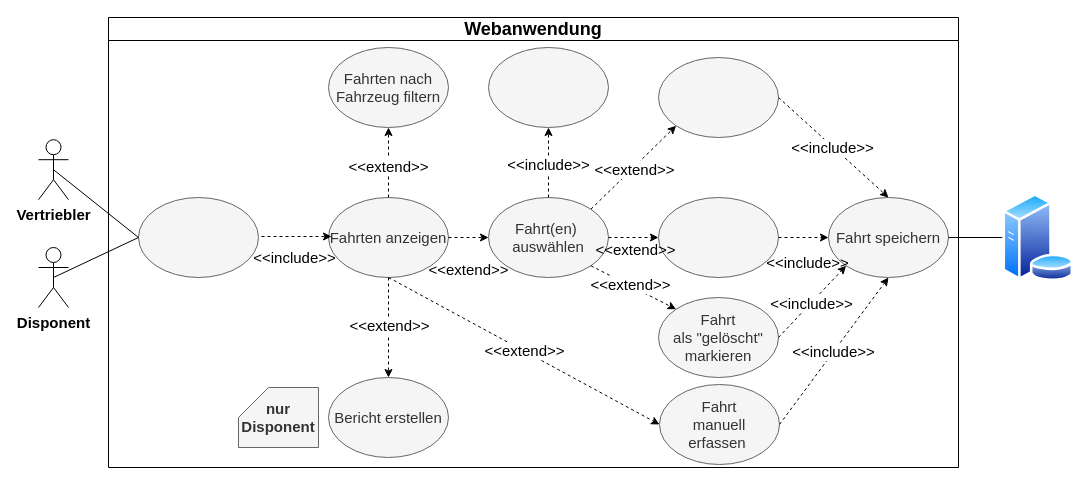
Some shapes in this 1092 by 485 pixel diagram are drawn without their labels. Each missing label, with the centre of its shape:
"Anmelden" belongs at point (198, 237).
"Backend" belongs at point (1038, 237).
"Ergänzen von Fahrt-informationen" belongs at point (718, 237).
"Fahrten zusammenführen" belongs at point (718, 97).
"Karte anzeigen" belongs at point (548, 87).
